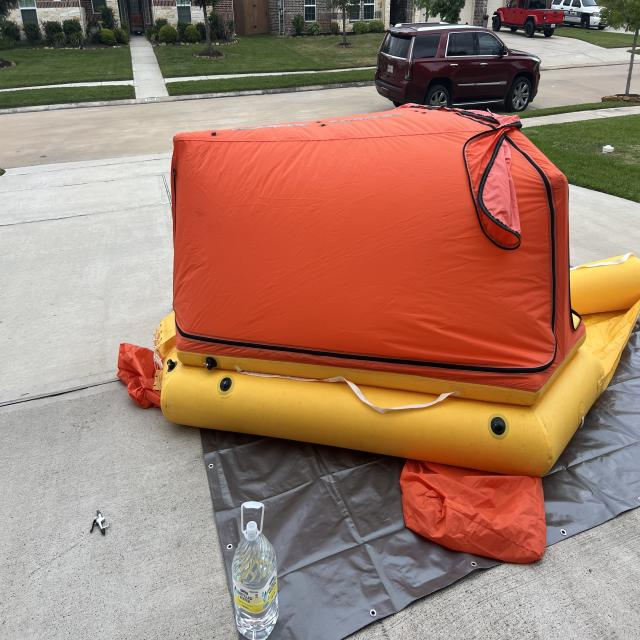Multi-person_life_raft: (117, 102, 640, 566)
